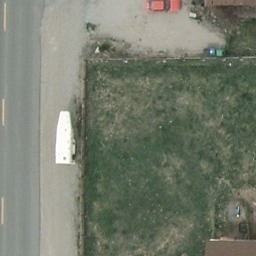car: (142, 0, 182, 13)
